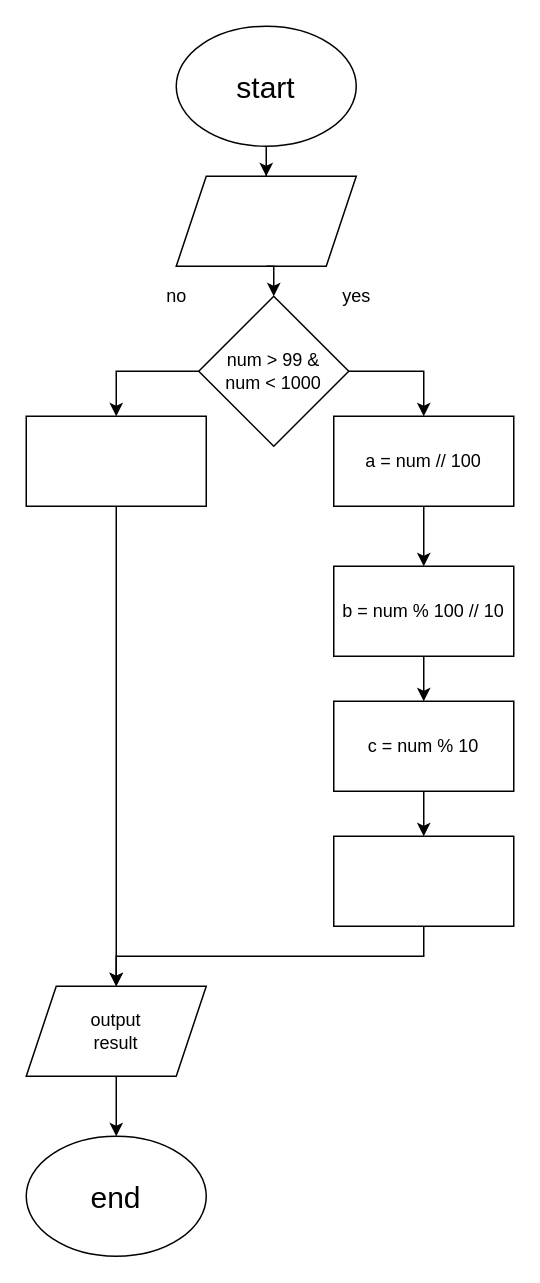
This 540x1283 diagram has some shape labels left out. Here are the shapes that lost their labels. From the top down, the centre of each, then its label:
the point at 265,220: input num
the point at 115,460: result = "Please write three-digit number"
the point at 423,880: result = a + b + c
